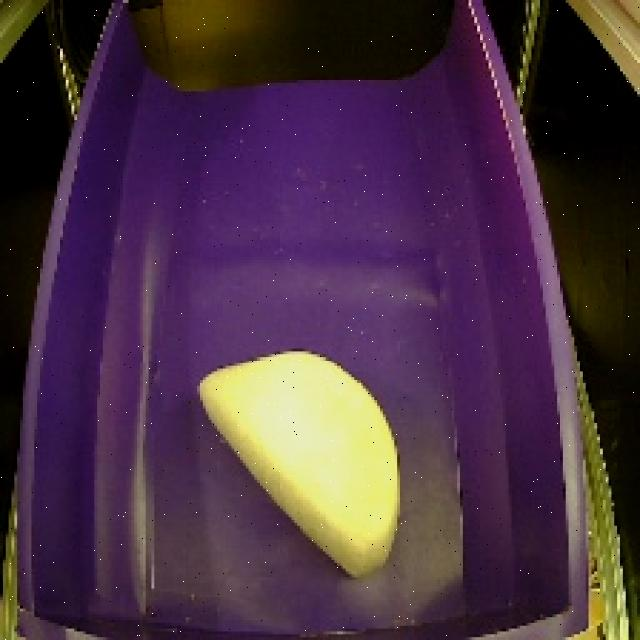white_radish: (182, 327, 428, 588)
